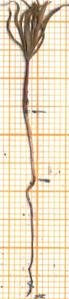flower: (0, 0, 69, 64)
root: (22, 183, 42, 298)
stem: (18, 62, 38, 181)
